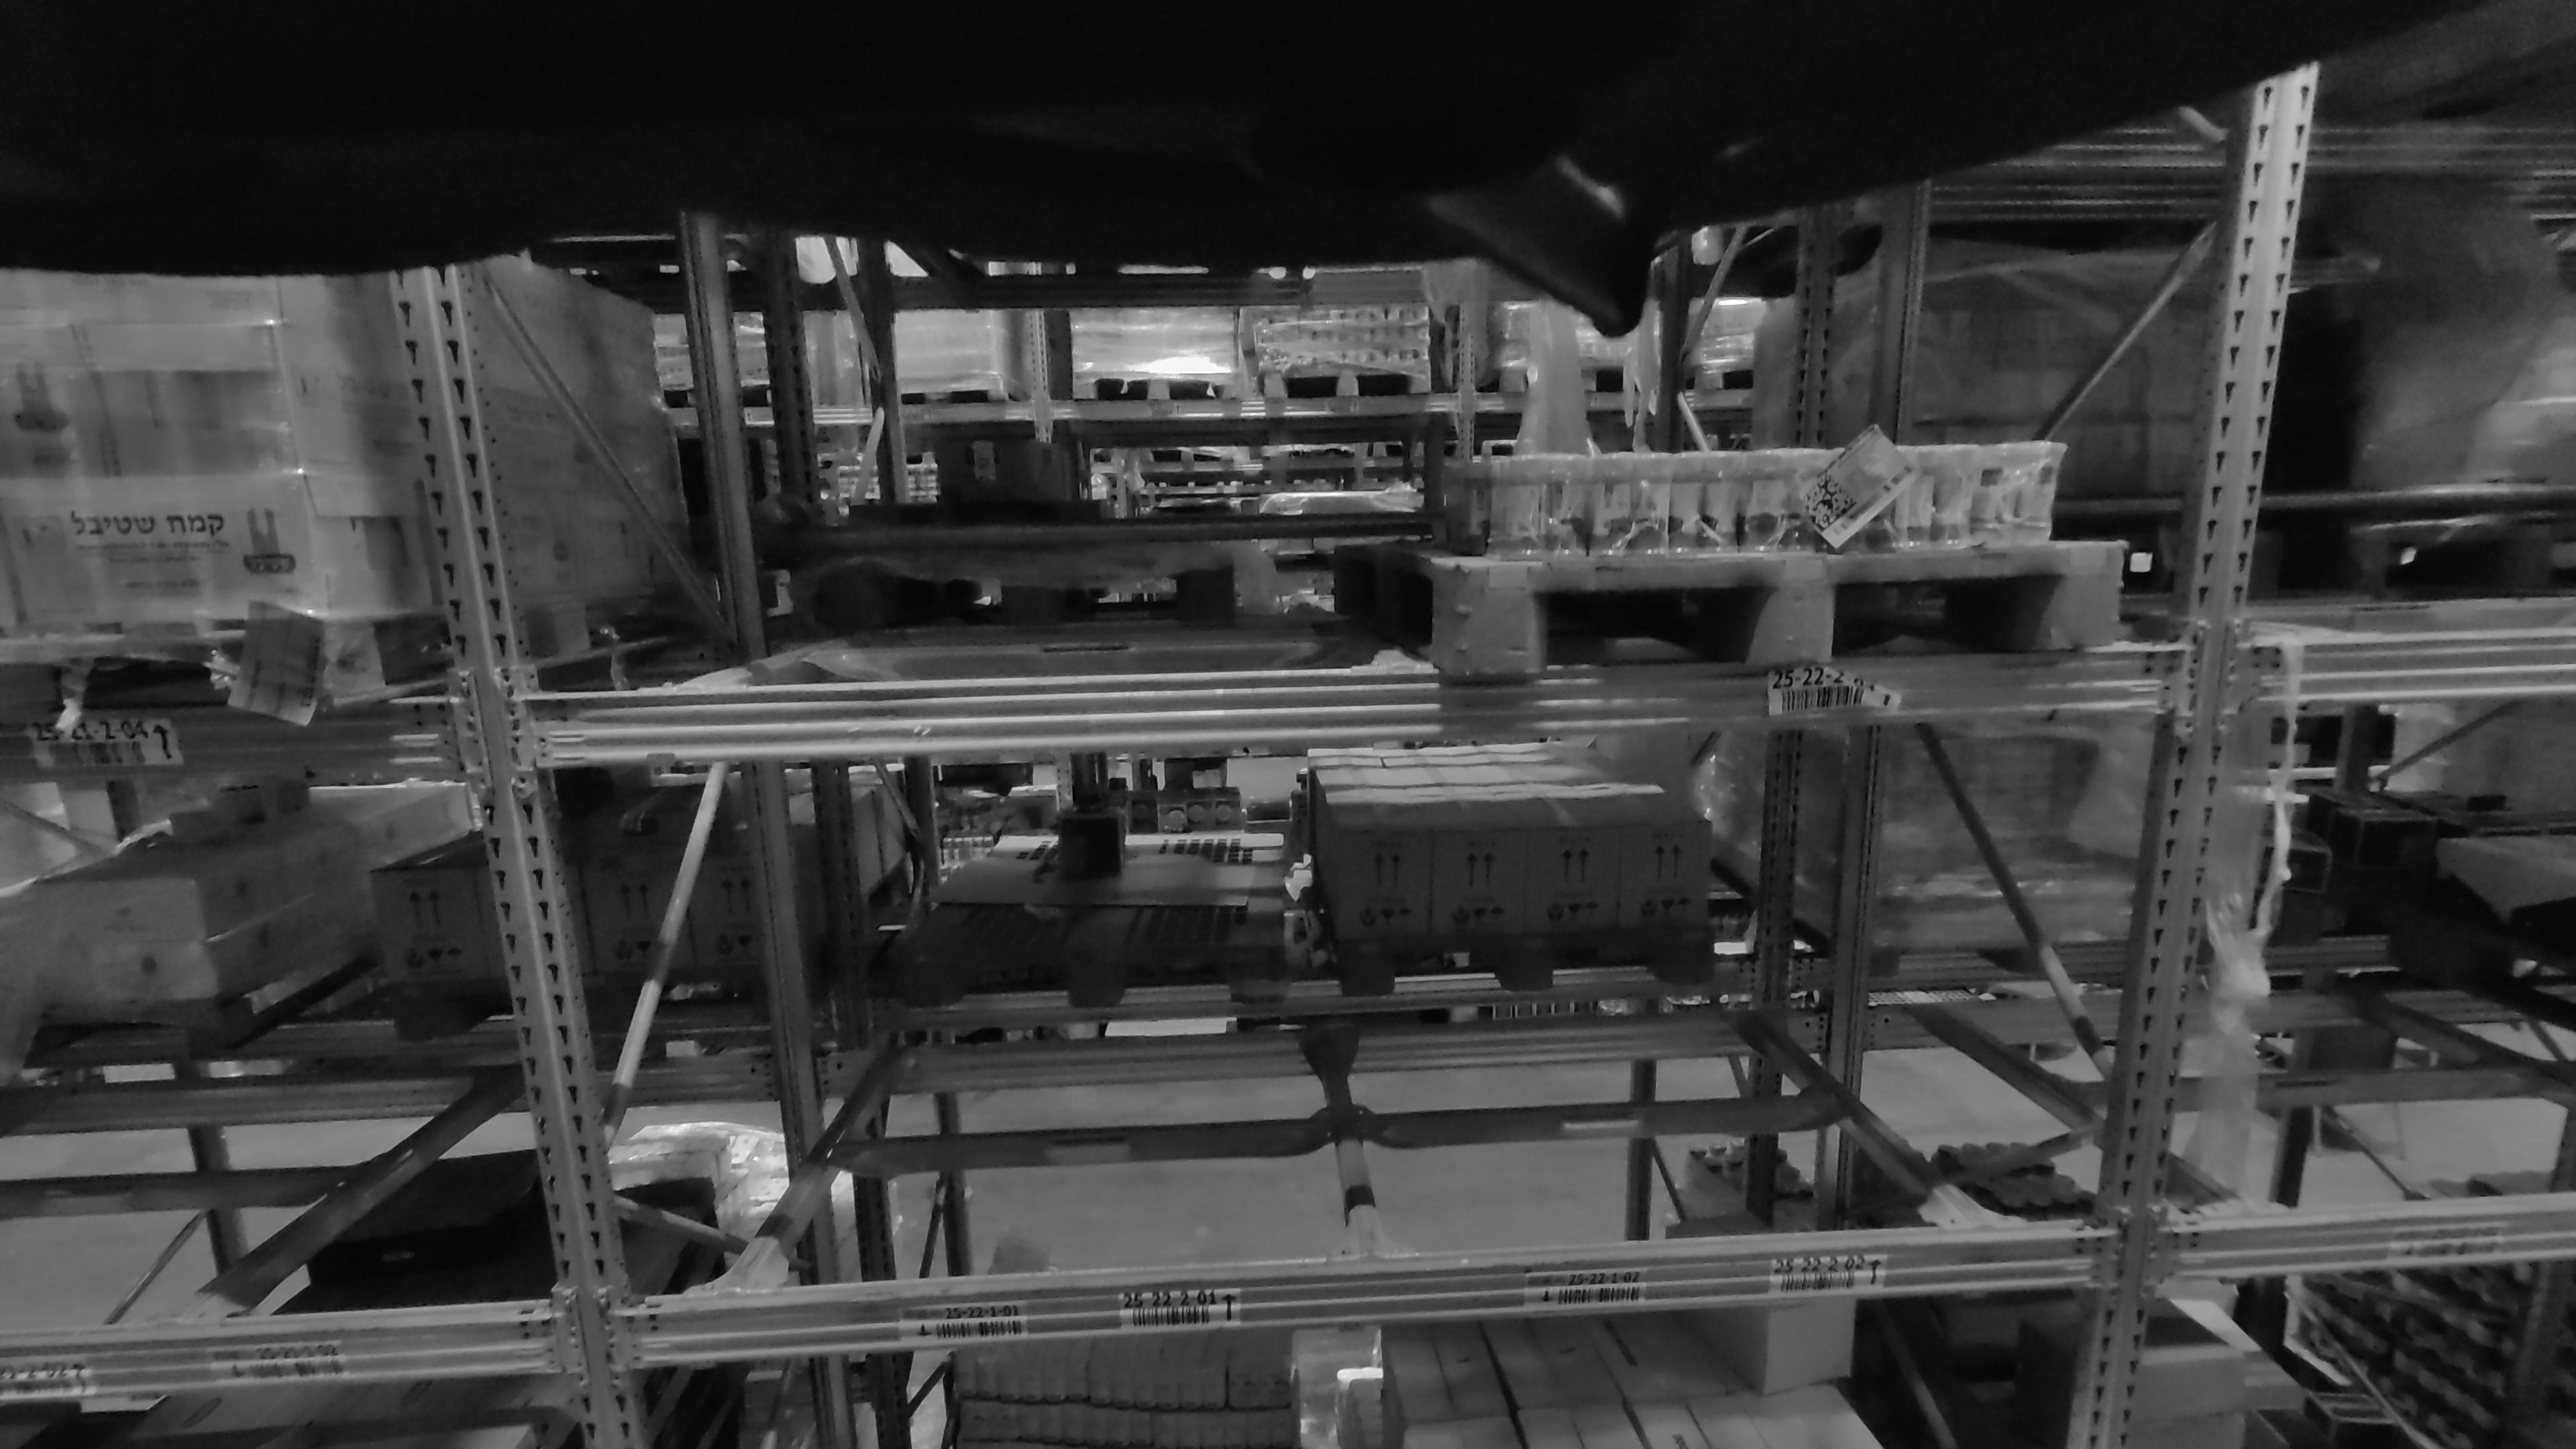empty-shelf: (609, 235, 1355, 678), (1392, 736, 1966, 1253), (803, 761, 1345, 1260), (37, 782, 501, 1288), (2277, 697, 2576, 1189)
